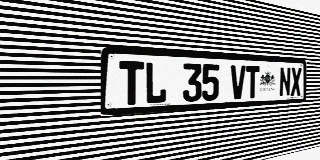3: (183, 63, 202, 102)
5: (202, 64, 219, 101)
L: (144, 62, 167, 104)
N: (279, 67, 291, 97)
T: (119, 61, 144, 106), (245, 66, 259, 99)
V: (230, 65, 245, 100)
X: (291, 67, 301, 96)
